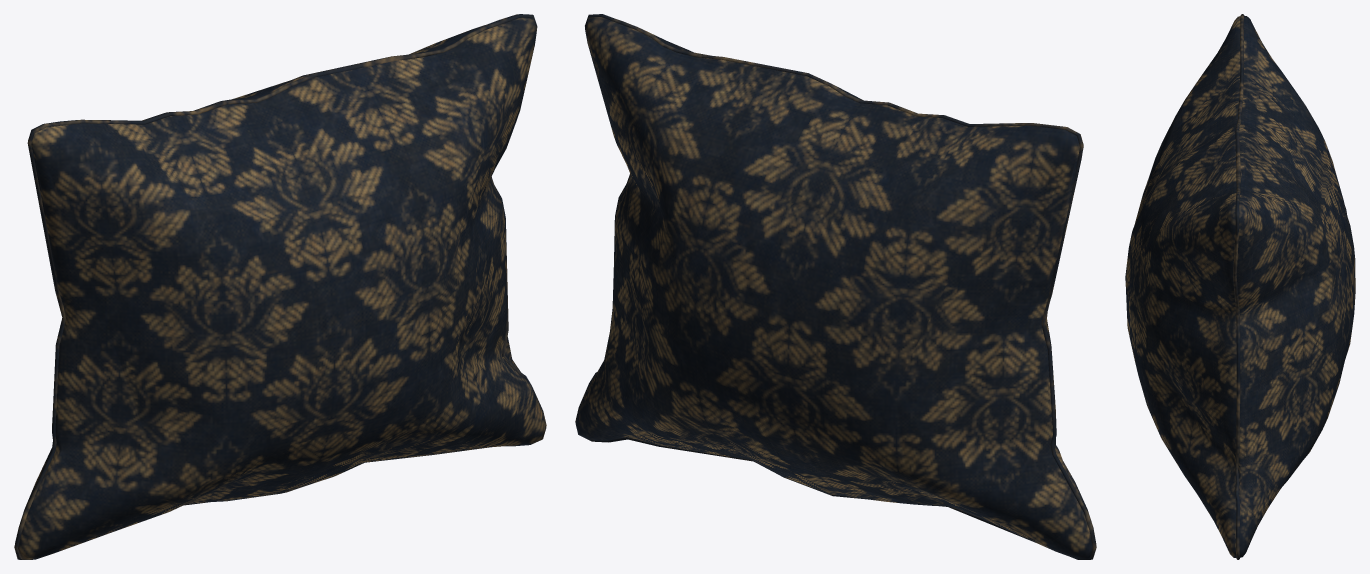
Rendered from Pillows_3.fbx.
3 renders of one model, left to right at view 1: azimuth 30°, elevation 25°; view 2: azimuth 150°, elevation 25°; view 3: azimuth 270°, elevation 25°, orthographic. The views are drawn at different scales.
Visible parts, largest first — view 1: Cube.006; view 2: Cube.006; view 3: Cube.006.
Boxes of the visible parts, left/top/right/bottom form: Cube.006: left=14, top=14, right=546, bottom=559; Cube.006: left=575, top=14, right=1096, bottom=559; Cube.006: left=1125, top=14, right=1355, bottom=559.
Bounding box in the file's own units: 64.94 × 51.21 × 30.4.
